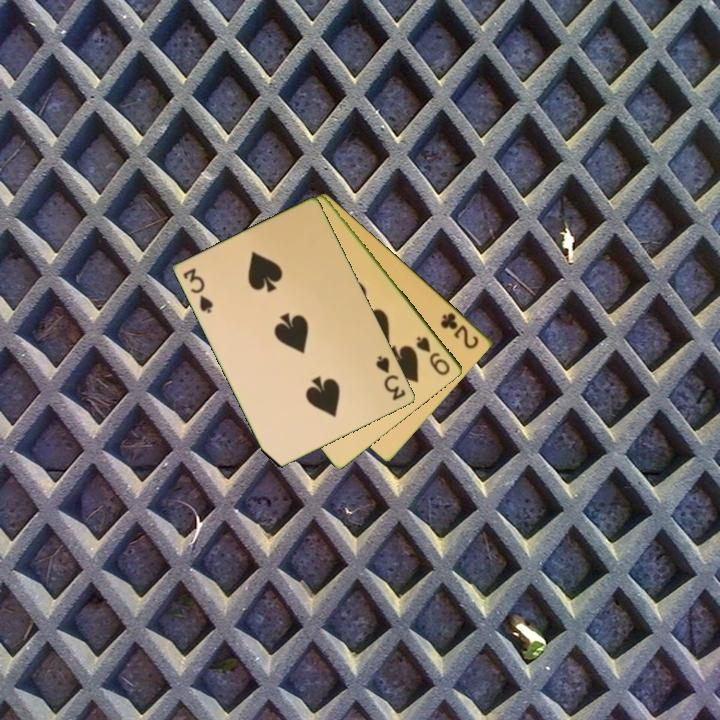2c: (437, 309, 482, 352)
3s: (180, 264, 216, 317), (373, 352, 409, 403)
9s: (413, 332, 454, 379)
